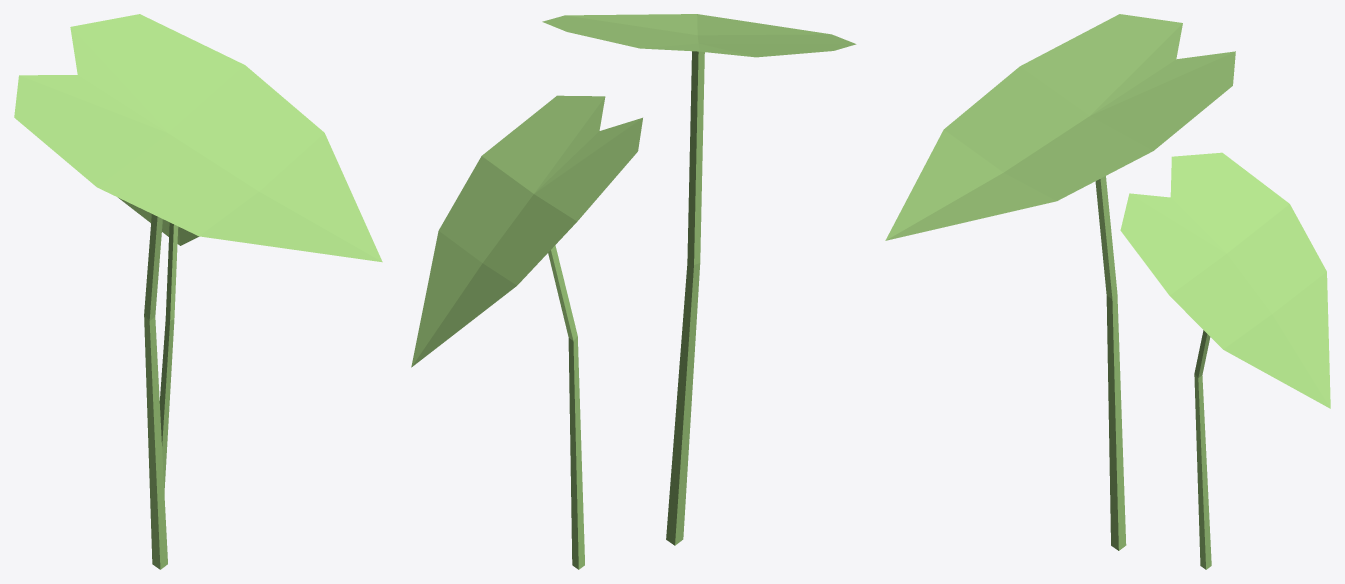
The model's file is Plant_d_OneS_06.fbx.
3 views of the same model, side by side, from view 1: azimuth 30°, elevation 25°; view 2: azimuth 150°, elevation 25°; view 3: azimuth 270°, elevation 25° (orthographic). The views are drawn at different scales.
Visible parts, largest first — view 1: Plant_d_OneS_06; view 2: Plant_d_OneS_06; view 3: Plant_d_OneS_06.
Boxes of the visible parts, left/top/right/bottom form: Plant_d_OneS_06: left=14, top=14, right=382, bottom=569; Plant_d_OneS_06: left=411, top=14, right=856, bottom=569; Plant_d_OneS_06: left=885, top=14, right=1330, bottom=569.
Bounding box in the file's own units: 0.5224 × 0.8162 × 0.6831.
